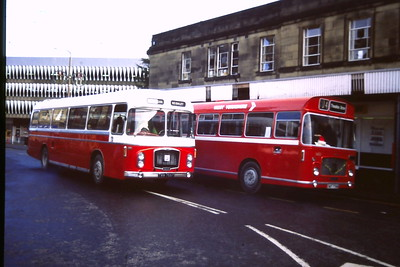bus: (26, 90, 196, 188), (193, 95, 357, 195)
